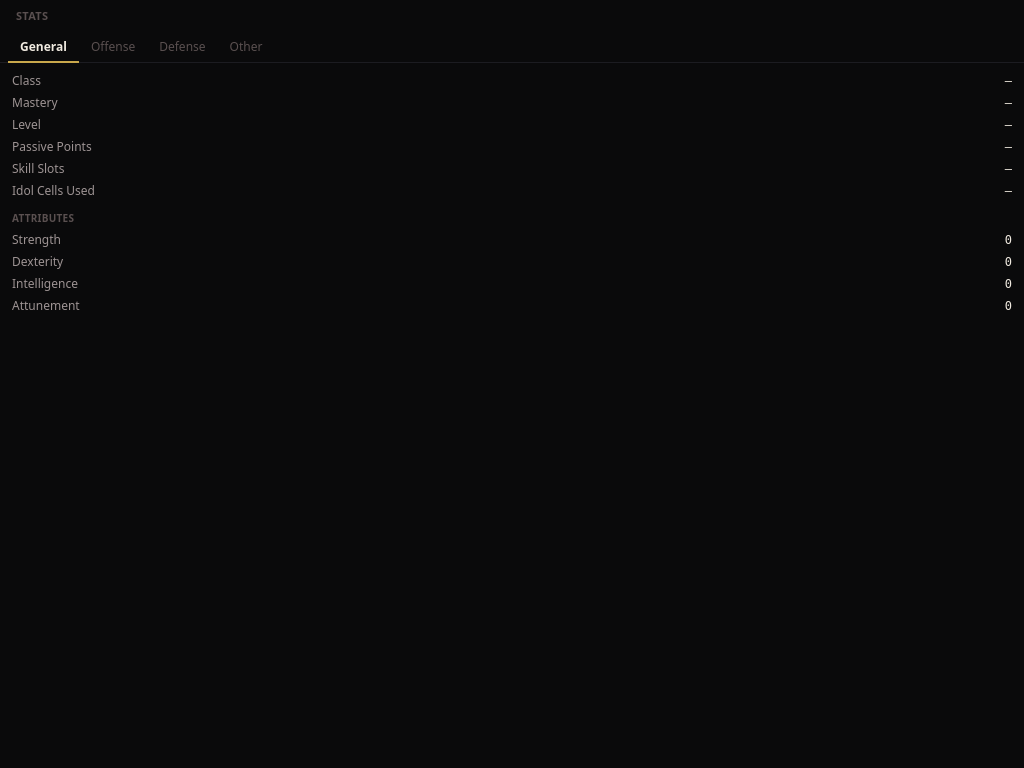
it: StatSheetPanel › shows warning gap label for uncapped resistance
The width and height of the screenshot is (1024, 768).
# Defense tab is not active by default — click it to render panel content
Click the tab "Defense".
click(182, 48)  # box [147, 32, 218, 62]
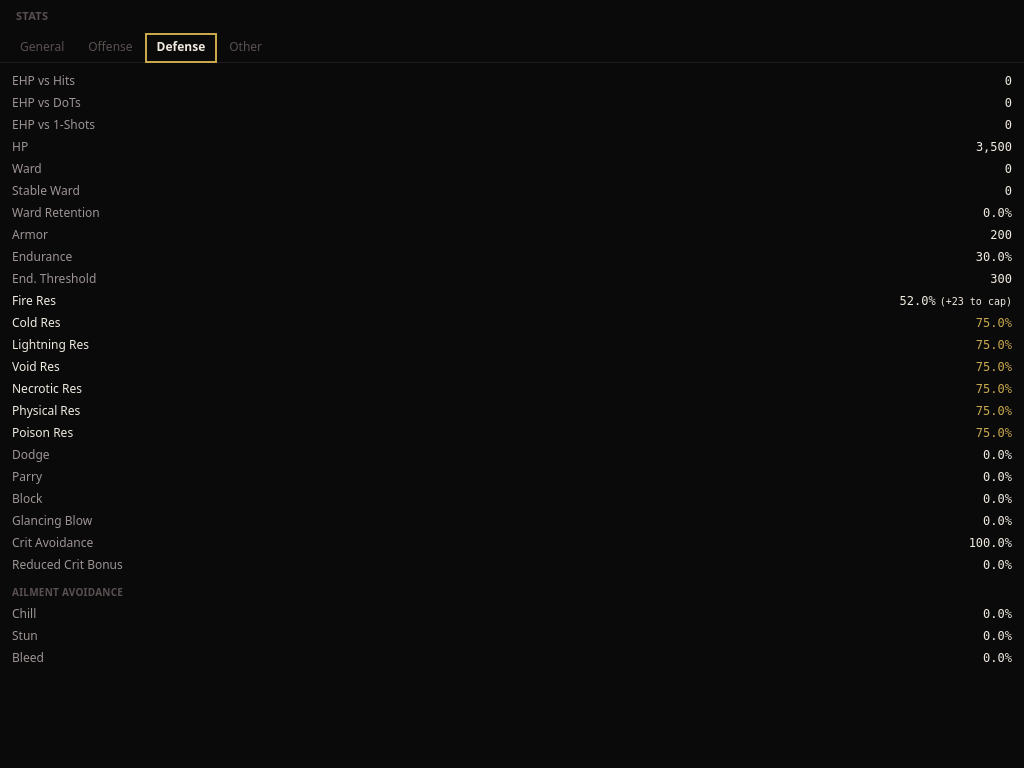
expect the text "(+23 to cap)" is shown: met, box [940, 296, 1012, 306]
